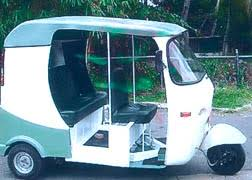tuk tuk: (1, 13, 248, 179)
